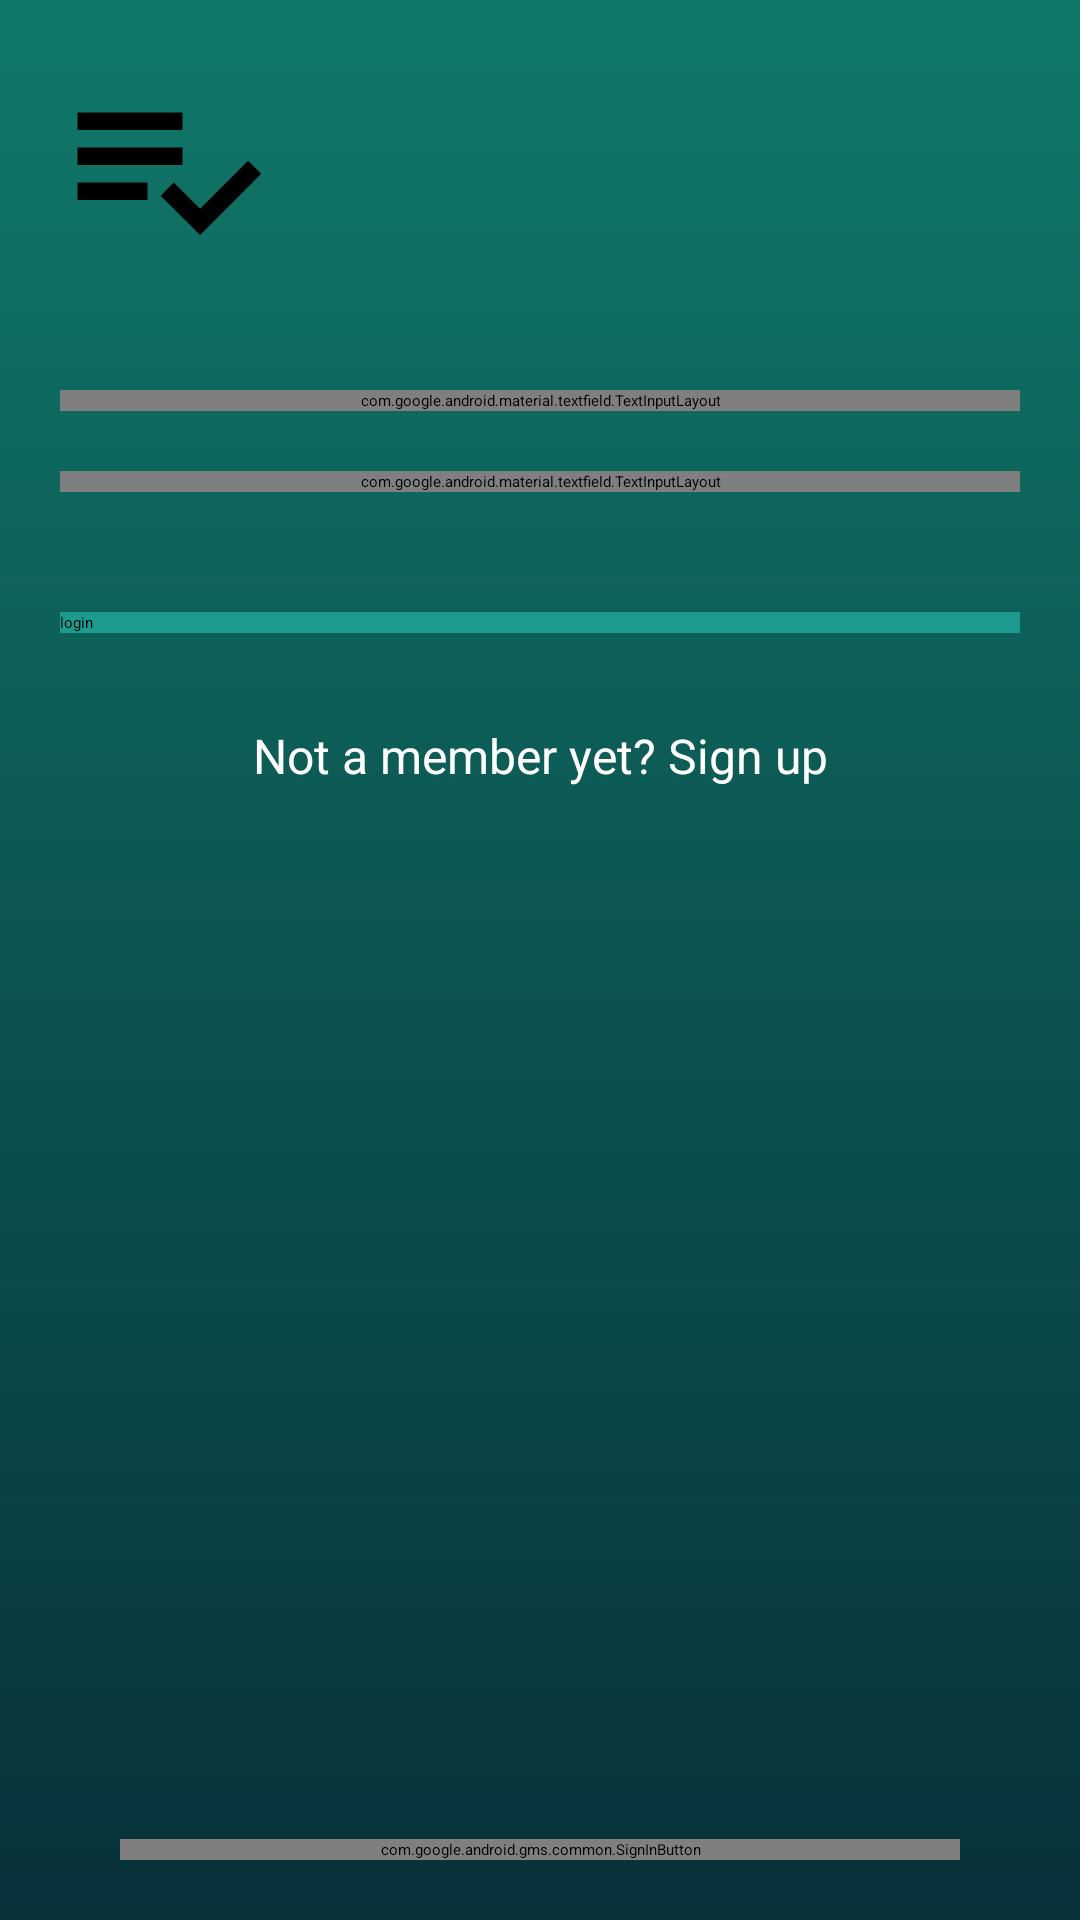

Where icons sit on this 1080×1920 app screen, as BBox(x1, y1, x2, y2):
playlist add check: BBox(77, 112, 261, 235)
